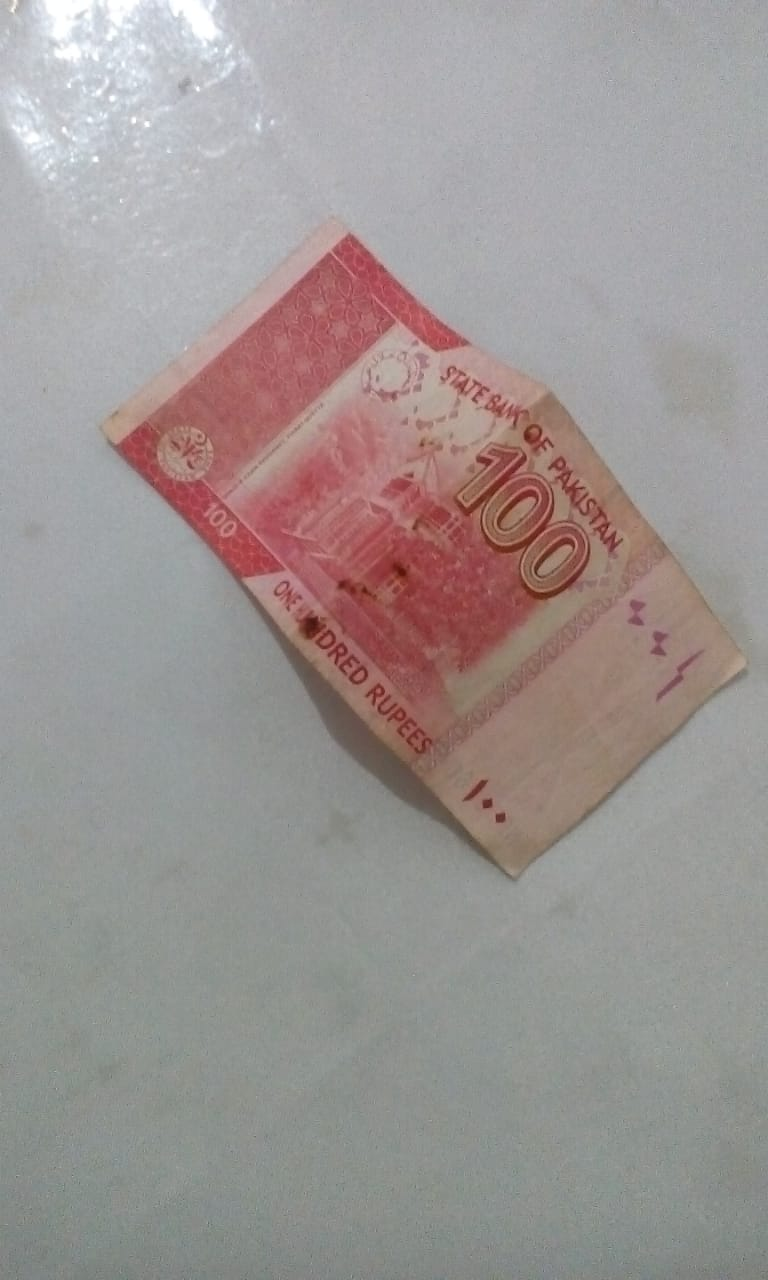100 rupee: (103, 226, 741, 942)
